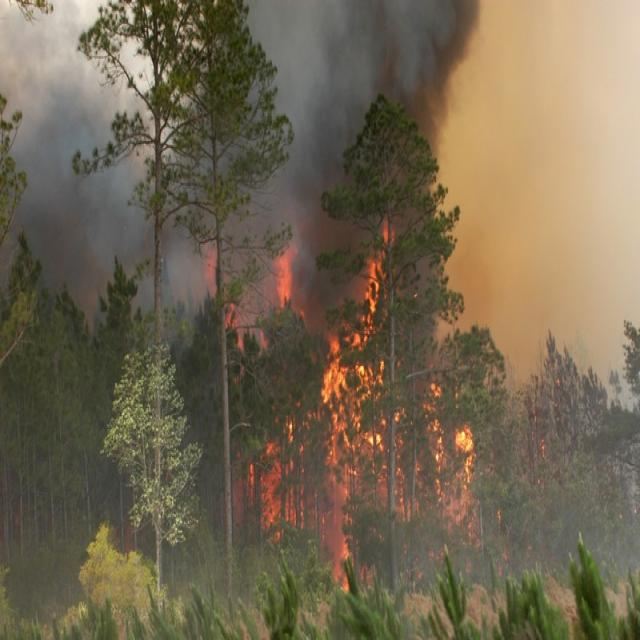Fire: (258, 280, 478, 605)
Smoke: (0, 0, 472, 291)
